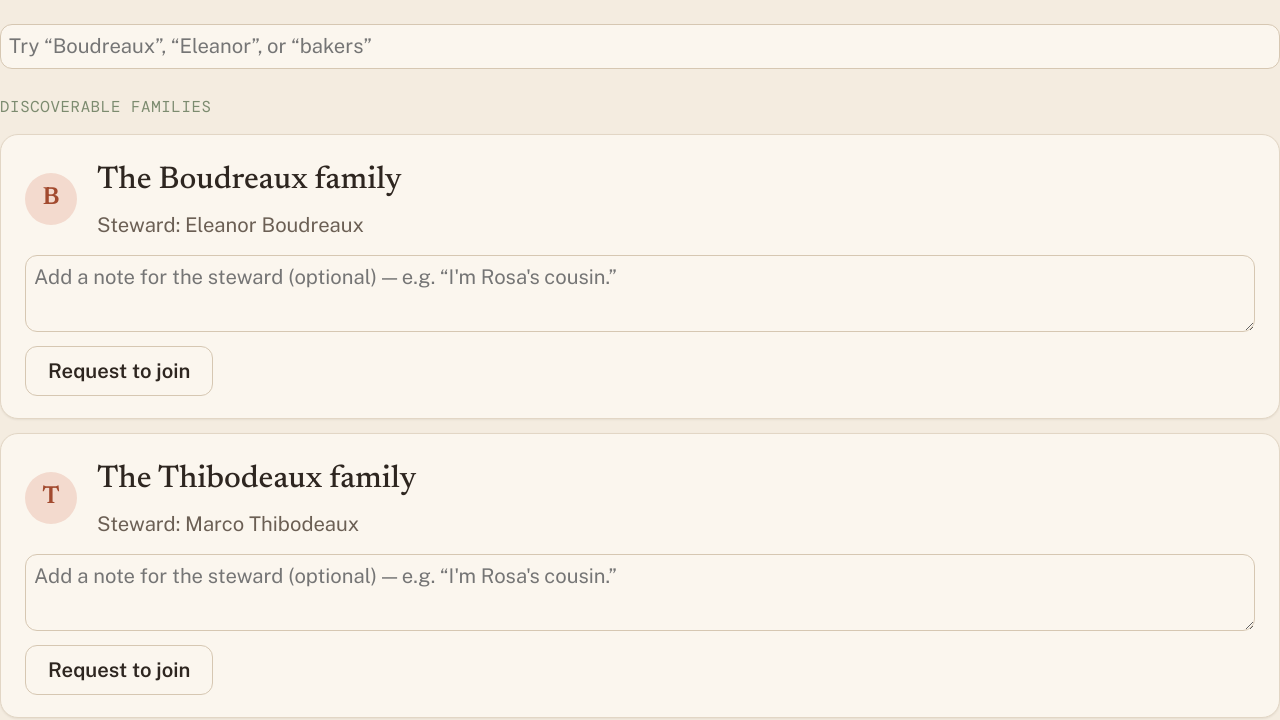
FamilyFinder › also matches on steward name
Type "marco" into the field with placeholder "Try “Boudreaux”, “Eleanor”, or “bakers”" at x=640, y=47, box left=0, top=24, right=1279, bottom=69
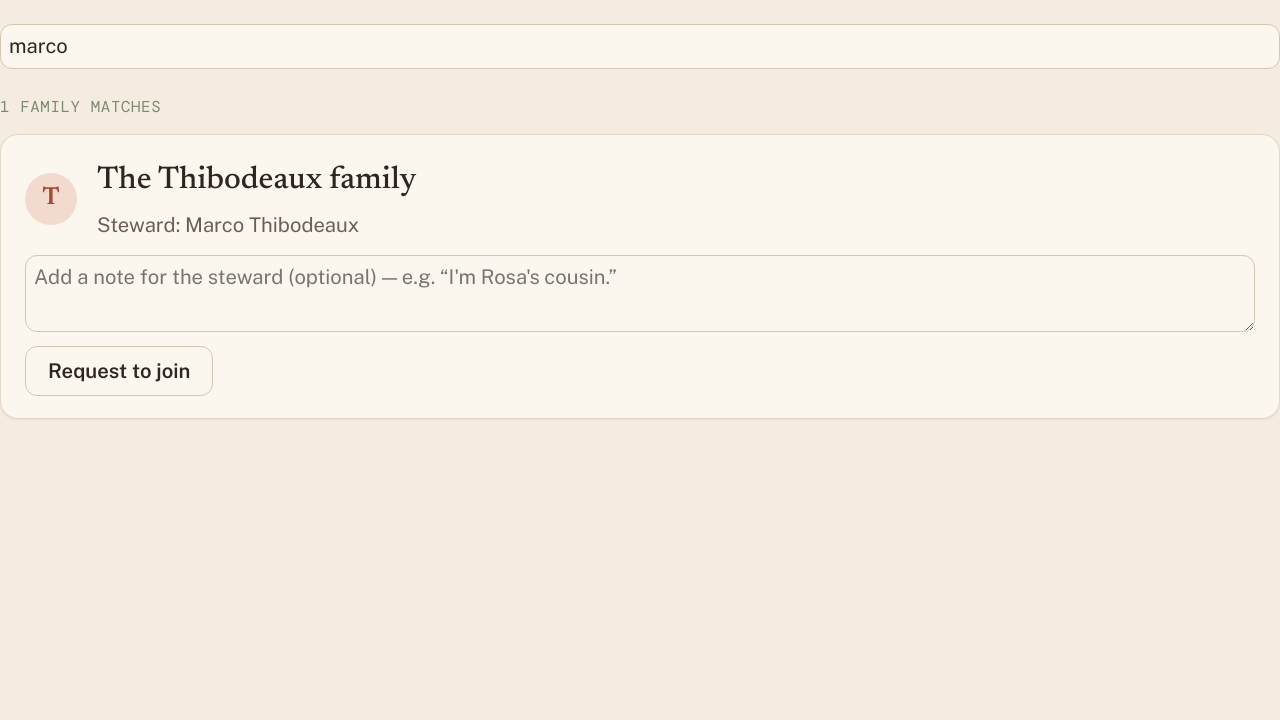
Check: the text "The Thibodeaux family" is shown, box left=97, top=165, right=416, bottom=196
Check: the text "1 family matches" is shown, box left=0, top=96, right=161, bottom=117
